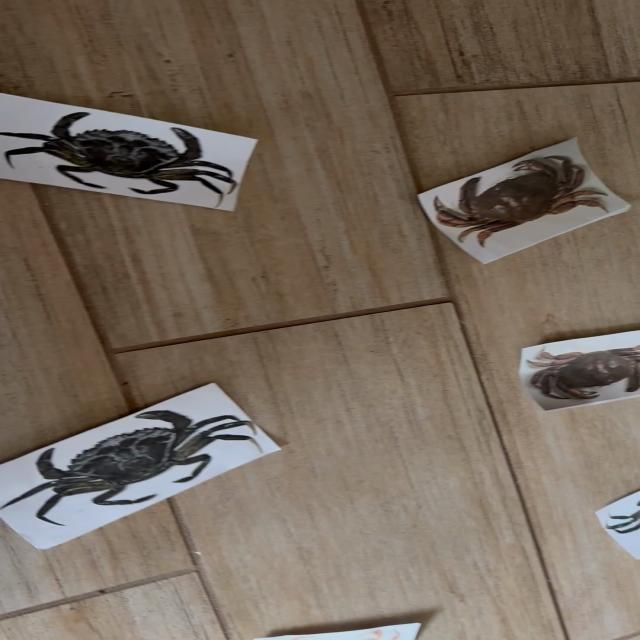egc: (5, 410, 252, 525), (0, 113, 235, 195), (606, 501, 639, 534)
